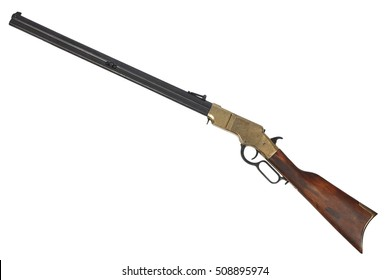GUN: (6, 9, 380, 257)
